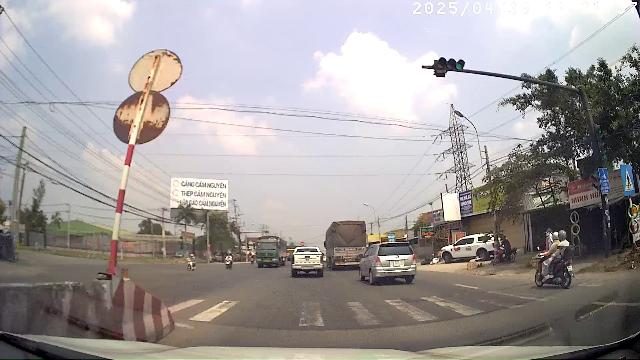423a-duong-nguoi-di-bo-sang-ngang-1: (621, 164, 635, 194)
